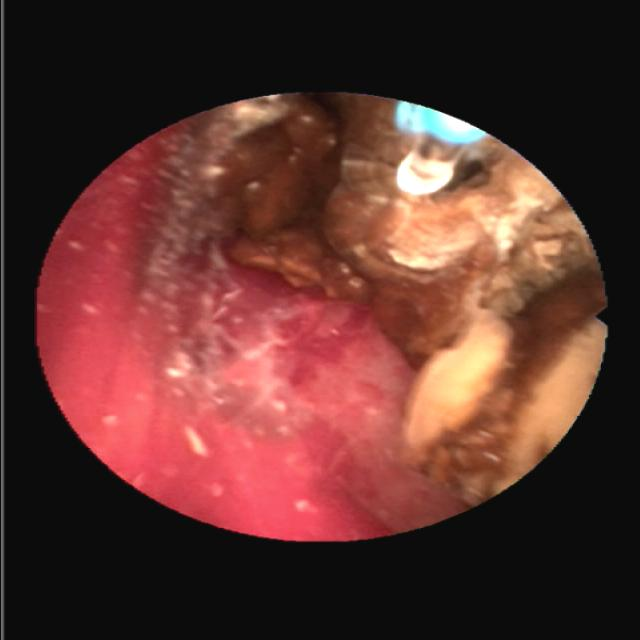fiber: (397, 108, 483, 142)
stone: (168, 97, 598, 495)
tissue: (49, 139, 451, 533)
